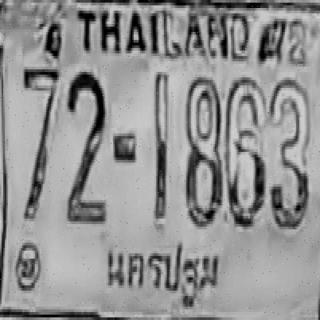N01: (153, 71, 169, 220)
N02: (65, 71, 105, 223)
N03: (269, 79, 309, 228)
N06: (225, 76, 265, 225)
N07: (22, 64, 59, 219)
N08: (184, 76, 222, 225)
P28: (100, 230, 228, 310)
